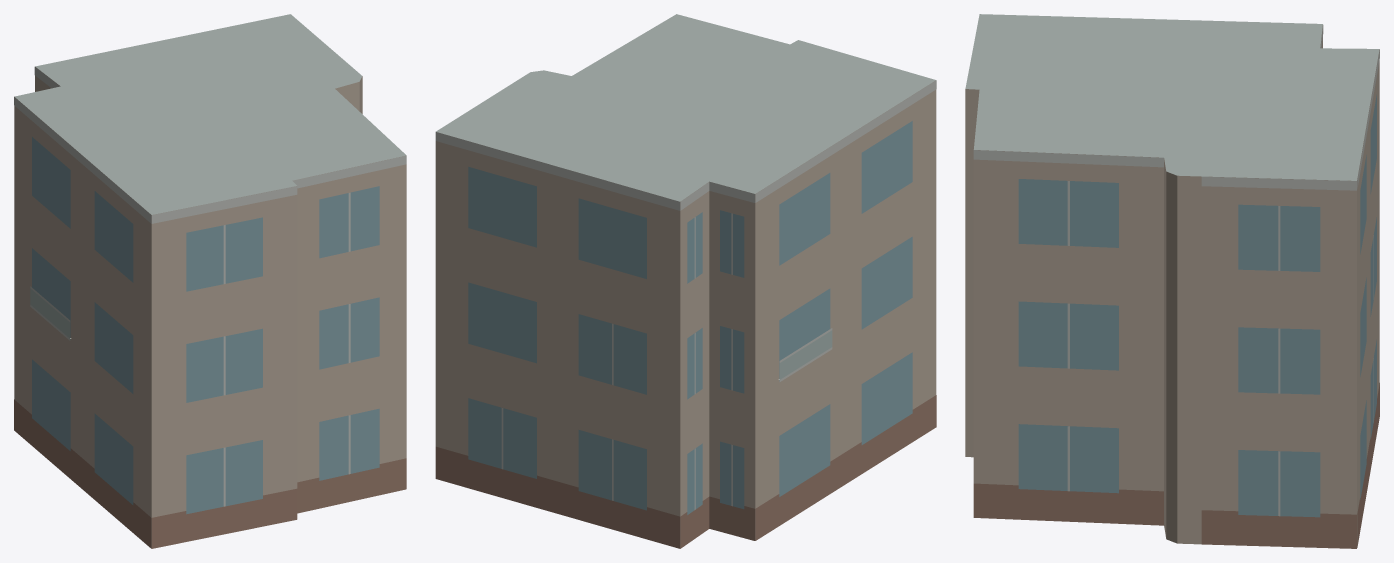
Rendered from survey-upis-33034160.glb.
3 views of the same model, side by side, from view 1: azimuth 30°, elevation 25°; view 2: azimuth 150°, elevation 25°; view 3: azimuth 270°, elevation 25° (orthographic). The views are drawn at different scales.
Parts seen in each view (by area): view 1: survey-upis-33034160.tmp; view 2: survey-upis-33034160.tmp; view 3: survey-upis-33034160.tmp.
Boxes of the visible parts, x1,y1,x2,y2 form: survey-upis-33034160.tmp: [14, 14, 406, 548]; survey-upis-33034160.tmp: [435, 14, 936, 548]; survey-upis-33034160.tmp: [965, 14, 1379, 548].
Size of the model in its own units: 8.96 by 9.2 by 9.4.
